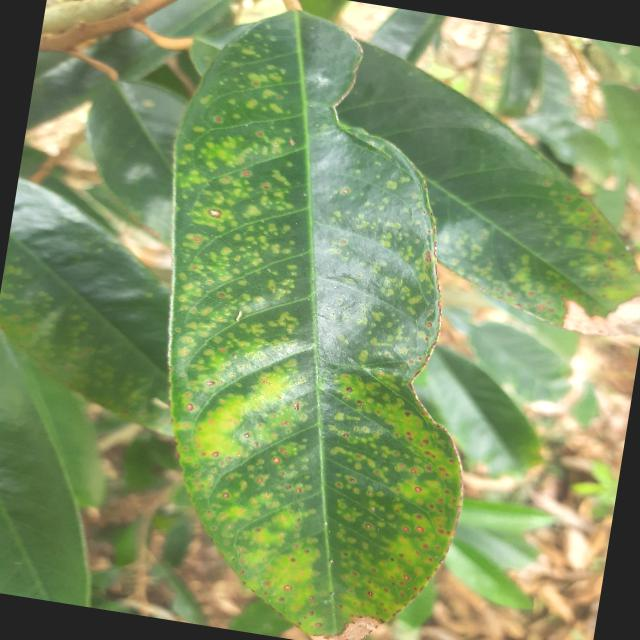Leaf Spot: (93, 0, 553, 639)
